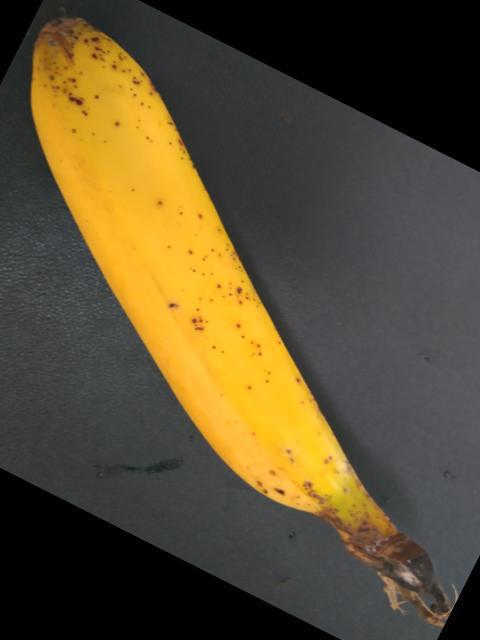ripe: (39, 24, 370, 540)
